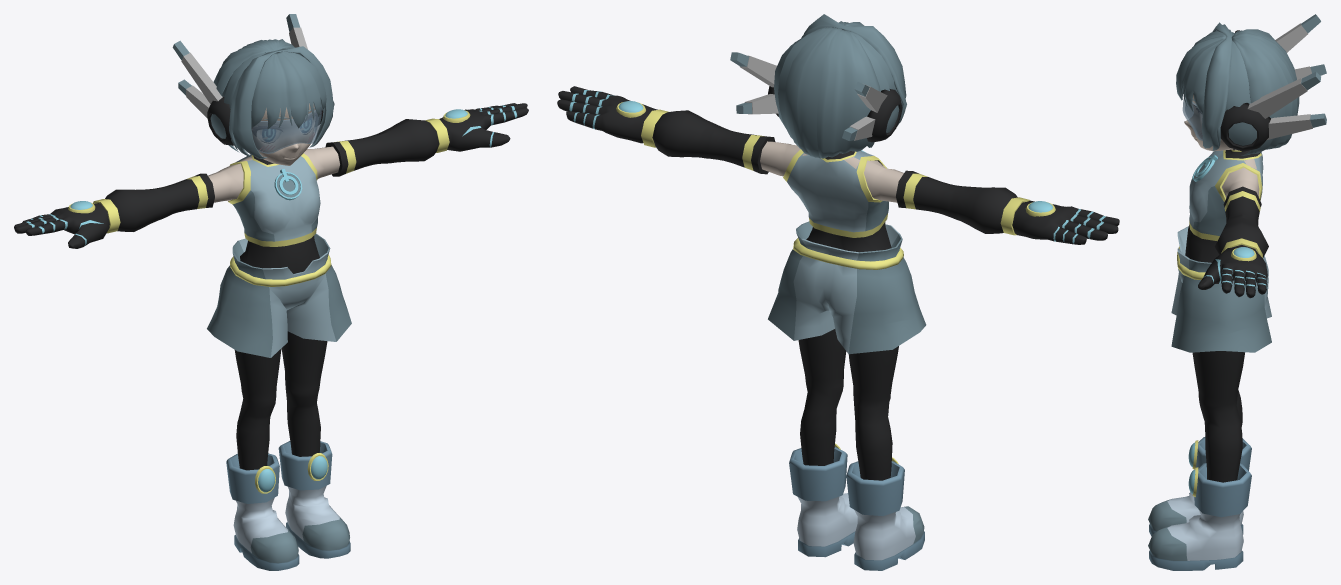
Rendered from BlueAndroid 1.fbx.
The picture shows the model from 3 angles, left to right: view 1: azimuth 30°, elevation 25°; view 2: azimuth 150°, elevation 25°; view 3: azimuth 270°, elevation 25°; orthographic projection. The views are drawn at different scales.
Parts seen in each view (by area): view 1: pasted__pasted__pasted__pasted__pasted__pasted__te11, pasted__zubon, pasted__huku1, kutu, kutu3, pasted__pasted__kami_base54, pasted__arm1, pasted__arm, pasted__pasted__kami_base6, pasted__te1, pasted__te, Google (+5 smaller); view 2: pasted__pasted__pasted__pasted__pasted__pasted__te11, pasted__zubon, pasted__pasted__kami_base60, pasted__huku1, kutu, kutu3, pasted__arm1, pasted__arm, pasted__te, pasted__te1, pasted__pasted__kami_base6, pasted__pSphere15 (+3 smaller); view 3: pasted__pasted__pasted__pasted__pasted__pasted__te11, pasted__zubon, kutu3, pasted__pasted__kami_base60, pasted__huku1, pasted__pasted__kami_base6, pasted__arm1, pasted__te1, pasted__pasted__kami_base54, kutu, pasted__pSphere12, pasted__pCube8 (+9 smaller).
Part boxes in pixels (<box>): pasted__pasted__pasted__pasted__pasted__pasted__te11: <box>208,103,339,470</box>; pasted__zubon: <box>207,233,351,357</box>; pasted__huku1: <box>228,153,320,246</box>; kutu: <box>226,453,299,570</box>; kutu3: <box>278,441,350,558</box>; pasted__pasted__kami_base54: <box>251,51,326,128</box>; pasted__arm1: <box>325,118,449,176</box>; pasted__arm: <box>93,173,214,233</box>; pasted__pasted__kami_base6: <box>229,46,334,158</box>; pasted__te1: <box>439,103,528,151</box>; pasted__te: <box>14,203,109,248</box>; Google: <box>251,106,321,153</box>; pasted__pasted__pasted__pasted__pasted__pasted__te11: <box>760,141,903,480</box>; pasted__zubon: <box>768,221,926,354</box>; pasted__pasted__kami_base60: <box>774,27,880,158</box>; pasted__huku1: <box>783,149,888,237</box>; kutu: <box>846,461,924,570</box>; kutu3: <box>789,447,857,557</box>; pasted__arm1: <box>641,109,775,174</box>; pasted__arm: <box>896,170,1029,235</box>; pasted__te: <box>1012,200,1119,244</box>; pasted__te1: <box>557,86,661,143</box>; pasted__pasted__kami_base6: <box>801,14,906,126</box>; pasted__pSphere15: <box>867,89,902,142</box>; pasted__pasted__pasted__pasted__pasted__pasted__te11: <box>1184,94,1259,482</box>; pasted__zubon: <box>1171,226,1271,352</box>; kutu3: <box>1148,463,1251,570</box>; pasted__pasted__kami_base60: <box>1232,29,1299,155</box>; pasted__huku1: <box>1189,150,1263,241</box>; pasted__pasted__kami_base6: <box>1201,22,1232,150</box>; pasted__arm1: <box>1214,186,1268,257</box>; pasted__te1: <box>1198,245,1267,298</box>; pasted__pasted__kami_base54: <box>1176,31,1226,113</box>; kutu: <box>1148,437,1251,536</box>; pasted__pSphere12: <box>1220,103,1270,151</box>; pasted__pCube8: <box>1247,71,1320,118</box>.
Bounding box in the file's own units: 134 × 123 × 38.66.
